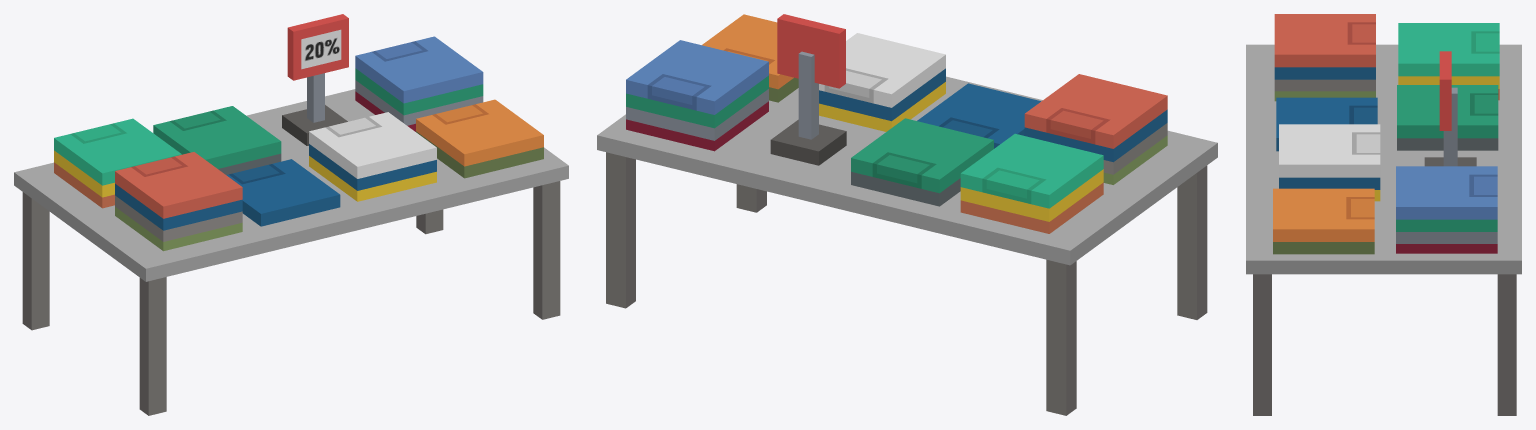
File: ShirtTable.glb
The picture shows the model from 3 angles, left to right: view 1: azimuth 30°, elevation 25°; view 2: azimuth 150°, elevation 25°; view 3: azimuth 270°, elevation 25°; orthographic projection. The views are drawn at different scales.
Visible parts, largest first — view 1: SI_Prop_Shirts_Table_01; view 2: SI_Prop_Shirts_Table_01; view 3: SI_Prop_Shirts_Table_01.
Part boxes in pixels (x1=…): SI_Prop_Shirts_Table_01: x1=14, y1=14, x2=568, y2=415; SI_Prop_Shirts_Table_01: x1=597, y1=14, x2=1217, y2=415; SI_Prop_Shirts_Table_01: x1=1246, y1=14, x2=1521, y2=415.
Size of the model in its own units: 0.0351 by 0.0208 by 0.019.
1 material, 1 textured.
